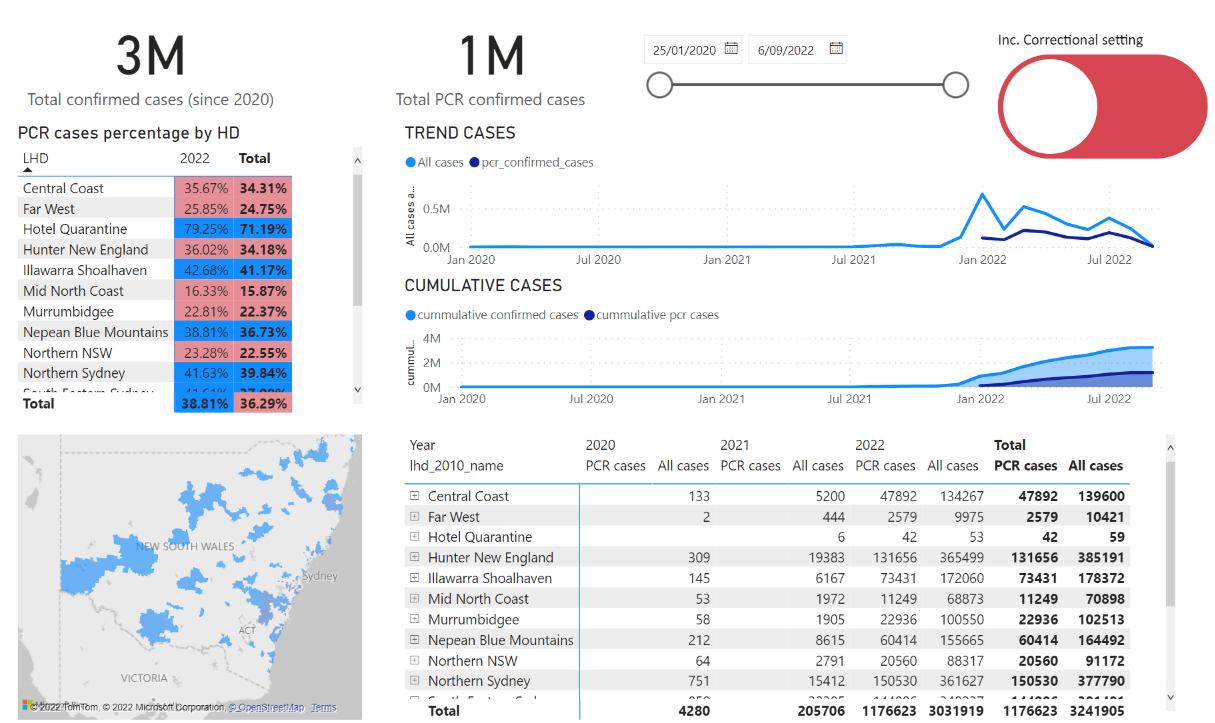

What the dashboard file says about the page in this screenshot:
{"tool":"powerbi","page":{"name":"Page 1","canvas":[1280,720],"ordinal":0},"visuals":[{"type":"card","fields":{"Values":["Sum(Assessment task - confirmed_cases_table1_location_agg 2 of 2.confirmed_cases_count)"]},"box":[100.1,20.4,268.2,105],"z":0},{"type":"card","fields":{"Values":["Assessment task - confirmed_cases_table1_location_agg 2 of 2.PCR%"]},"box":[413.1,20.4,303.2,105],"z":1000},{"type":"pivotTable","title":"PCR cases percentage by HD","fields":{"Rows":["Assessment task - confirmed_cases_table1_location_agg 2 of 2.lhd_2010_name"],"Columns":["Assessment.notification_date.Variation.Date Hierarchy.Year"],"Values":["Assessment.PCT cases"]},"box":[100.1,134.1,345,287.7],"z":2000},{"type":"pivotTable","fields":{"Rows":["Assessment task - confirmed_cases_table1_location_agg 2 of 2.lhd_2010_name","Assessment.lga_name19"],"Columns":["Assessment.notification_date.Variation.Date Hierarchy.Year"],"Values":["Assessment.pcr_confirmed_cases","Assessment.All cases"]},"box":[476.2,432.5,759.1,287.7],"z":3000},{"type":"filledMap","fields":{"Category":["Assessment.postcode"]},"box":[100.1,432.5,345,287.7],"z":4000},{"type":"lineChart","title":"TREND CASES","fields":{"Y":["Assessment.All cases","Assessment.pcr_confirmed_cases"],"Category":["Assessment.notification_date.Variation.Date Hierarchy.Year","Assessment.notification_date.Variation.Date Hierarchy.Quarter","Assessment.notification_date.Variation.Date Hierarchy.Month"]},"box":[476.2,134.1,759.1,151.6],"z":5000},{"type":"slicer","fields":{"Values":["Assessment.notification_date"]},"box":[700.7,39.8,337.3,85.5],"z":6000},{"type":"areaChart","title":"CUMULATIVE CASES","fields":{"Y":["Assessment.cummulative confirmed cases","Assessment.cummulative pcr cases"],"Category":["Assessment.notification_date.Variation.Date Hierarchy.Year","Assessment.notification_date.Variation.Date Hierarchy.Quarter","Assessment.notification_date.Variation.Date Hierarchy.Month"]},"box":[476.2,282.8,759.1,139],"z":7000},{"type":"advancedtoggleswitch","fields":{"Category":["Assessment.lhd_2010_name"]},"box":[1053.5,20.4,213.8,138],"z":8000}]}

Visuals, with their boxes on the page's 1280x720 design canvas (x1, y1, x2, y2). These are canvas units, not pixel positions in the 1215x723 screenshot, which may show the page scaled, cropped or inside an application window:
card - Sum(Assessment task - confirmed_cases_table1_location_agg 2 of 2.confirmed_cases_count): <box>100,20,368,125</box>
card - Assessment task - confirmed_cases_table1_location_agg 2 of 2.PCR%: <box>413,20,716,125</box>
"PCR cases percentage by HD" pivotTable: <box>100,134,445,422</box>
pivotTable - Assessment task - confirmed_cases_table1_location_agg 2 of 2.lhd_2010_name x Assessment.lga_name19: <box>476,432,1235,720</box>
filledMap - Assessment.postcode: <box>100,432,445,720</box>
"TREND CASES" lineChart: <box>476,134,1235,286</box>
slicer - Assessment.notification_date: <box>701,40,1038,125</box>
"CUMULATIVE CASES" areaChart: <box>476,283,1235,422</box>
advancedtoggleswitch - Assessment.lhd_2010_name: <box>1054,20,1267,158</box>
